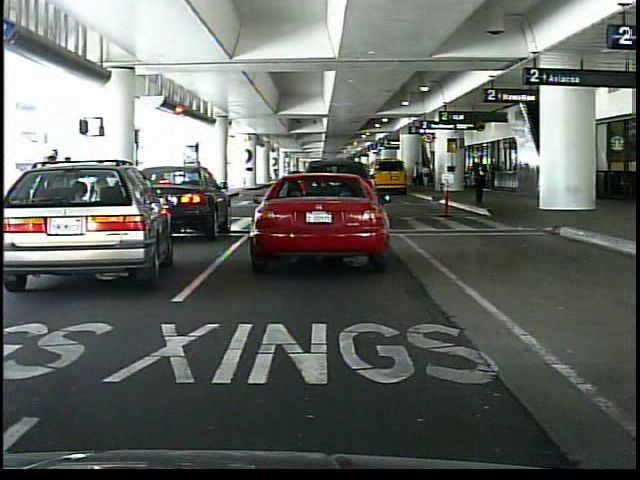person: (50, 148, 68, 228), (194, 157, 216, 215), (307, 156, 326, 212), (472, 154, 491, 204), (411, 157, 425, 193)
